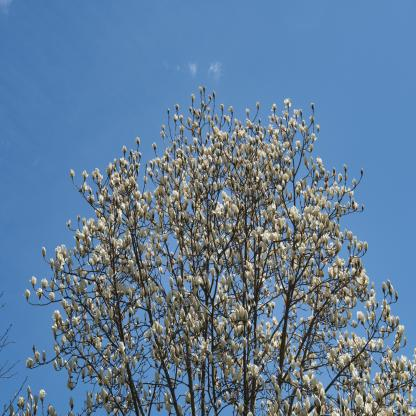Mokuren: (0, 83, 416, 416)
